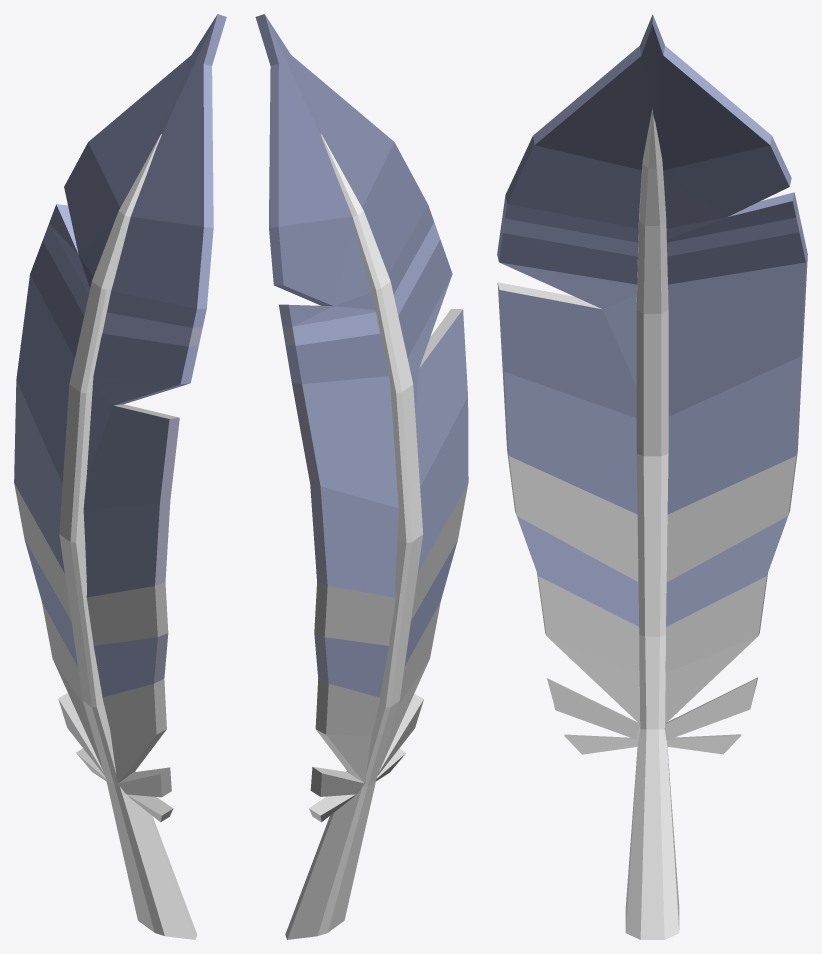
File: Prop_Feather_00.fbx
3 views of the same model, side by side, from view 1: azimuth 30°, elevation 25°; view 2: azimuth 150°, elevation 25°; view 3: azimuth 270°, elevation 25° (orthographic). The views are drawn at different scales.
Visible parts, largest first — view 1: Model_Feather, Model_Feather_Stem; view 2: Model_Feather, Model_Feather_Stem; view 3: Model_Feather, Model_Feather_Stem.
Boxes of the visible parts, x1,y1,x2,y2 form: Model_Feather: (14,14,226,822); Model_Feather_Stem: (59,134,197,939); Model_Feather: (255,14,468,822); Model_Feather_Stem: (285,134,423,939); Model_Feather: (497,14,807,754); Model_Feather_Stem: (625,108,679,939).
Size of the model in its own units: 125 by 671 by 201.
